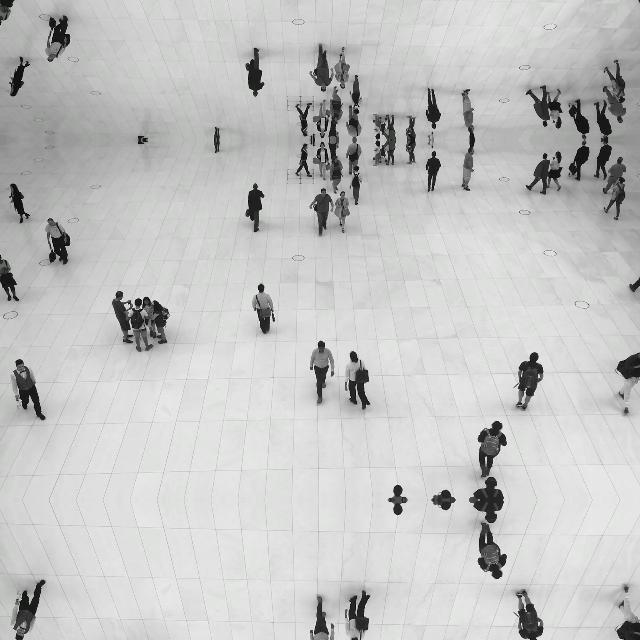person: (10, 359, 46, 421), (10, 579, 45, 640), (308, 340, 336, 404), (514, 352, 544, 411), (477, 421, 507, 479), (477, 521, 507, 579), (344, 351, 371, 411), (615, 351, 640, 415), (125, 298, 153, 354), (514, 589, 544, 640), (343, 589, 370, 640), (615, 585, 640, 640), (252, 283, 276, 335), (44, 15, 70, 62), (44, 218, 70, 264), (112, 290, 134, 344), (308, 596, 335, 640), (310, 188, 334, 236), (310, 44, 334, 92), (244, 183, 266, 233), (244, 47, 266, 97), (525, 153, 551, 195), (525, 85, 551, 127), (603, 176, 627, 220), (603, 60, 627, 104), (602, 156, 628, 194), (602, 86, 628, 124), (1, 254, 20, 302), (9, 183, 31, 224), (150, 300, 170, 344), (9, 56, 31, 96), (469, 476, 505, 500), (469, 500, 505, 524), (570, 140, 590, 182), (570, 98, 590, 140), (141, 296, 159, 340), (594, 140, 612, 180), (594, 100, 612, 140), (334, 191, 351, 233), (334, 47, 351, 89), (426, 150, 442, 192), (547, 150, 563, 192), (426, 88, 442, 130), (547, 89, 563, 130), (461, 146, 475, 192), (461, 88, 475, 134), (295, 143, 313, 177), (295, 103, 313, 137), (328, 156, 344, 194), (328, 86, 344, 124), (346, 140, 362, 176), (346, 104, 362, 140), (315, 142, 329, 180), (315, 100, 329, 138), (0, 0, 19, 26), (350, 166, 362, 206), (350, 74, 362, 114), (381, 140, 397, 166), (381, 114, 397, 140), (388, 484, 408, 500), (388, 500, 408, 516), (372, 140, 382, 166), (372, 114, 382, 140), (406, 140, 416, 164), (432, 490, 456, 500), (406, 116, 416, 140), (432, 500, 456, 510), (328, 140, 339, 158), (328, 122, 339, 140), (628, 276, 640, 292), (213, 140, 221, 154), (213, 126, 221, 140), (468, 140, 476, 152), (468, 128, 476, 140), (427, 140, 435, 148), (427, 132, 435, 140), (138, 140, 148, 144), (138, 136, 148, 140), (309, 140, 315, 146), (309, 134, 315, 140), (628, 0, 639, 3)
